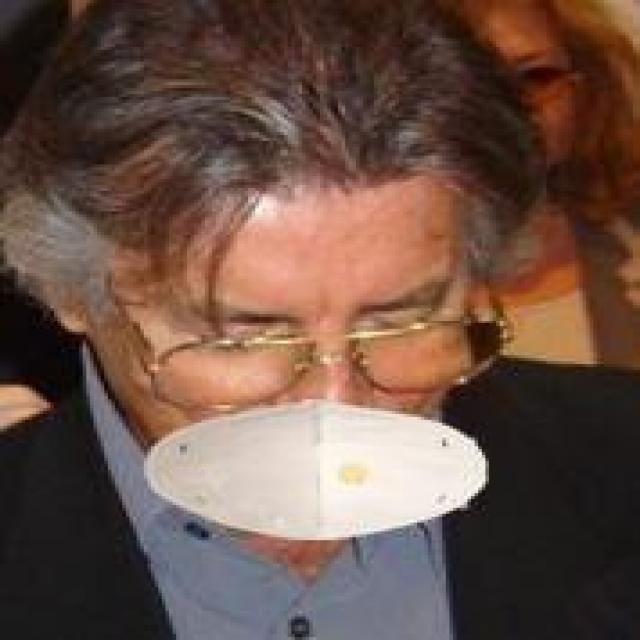mask: (7, 47, 543, 549)
